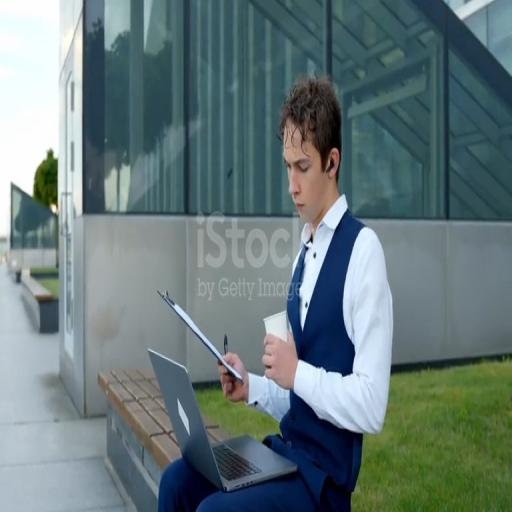earphone: (328, 154, 335, 180)
